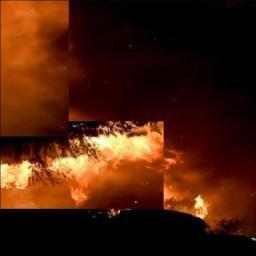Heavy smoke: (2, 1, 253, 112)
Large fire: (1, 128, 193, 206)
